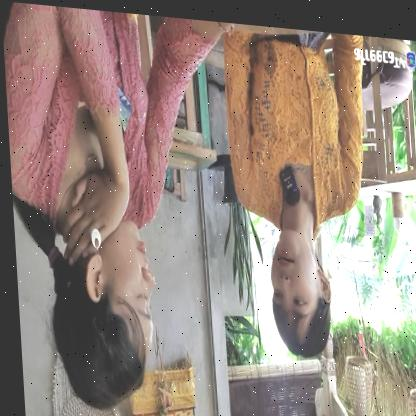streamer: (0, 0, 257, 416), (220, 17, 377, 356)
